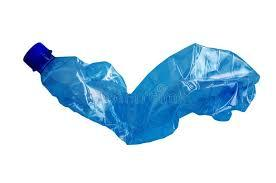plastic: (22, 42, 259, 145)
